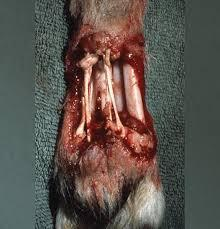fracture: (70, 33, 145, 159)
